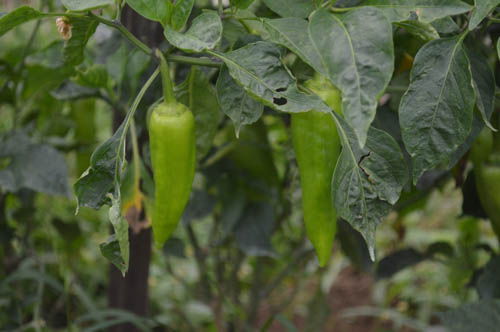ChiliPepper: (288, 88, 347, 268), (146, 110, 196, 252)
